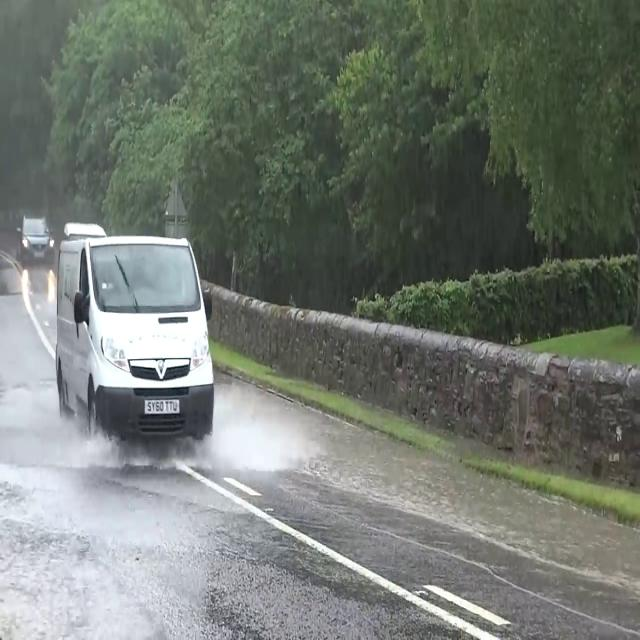license-plate-annotation: (141, 398, 183, 415)
